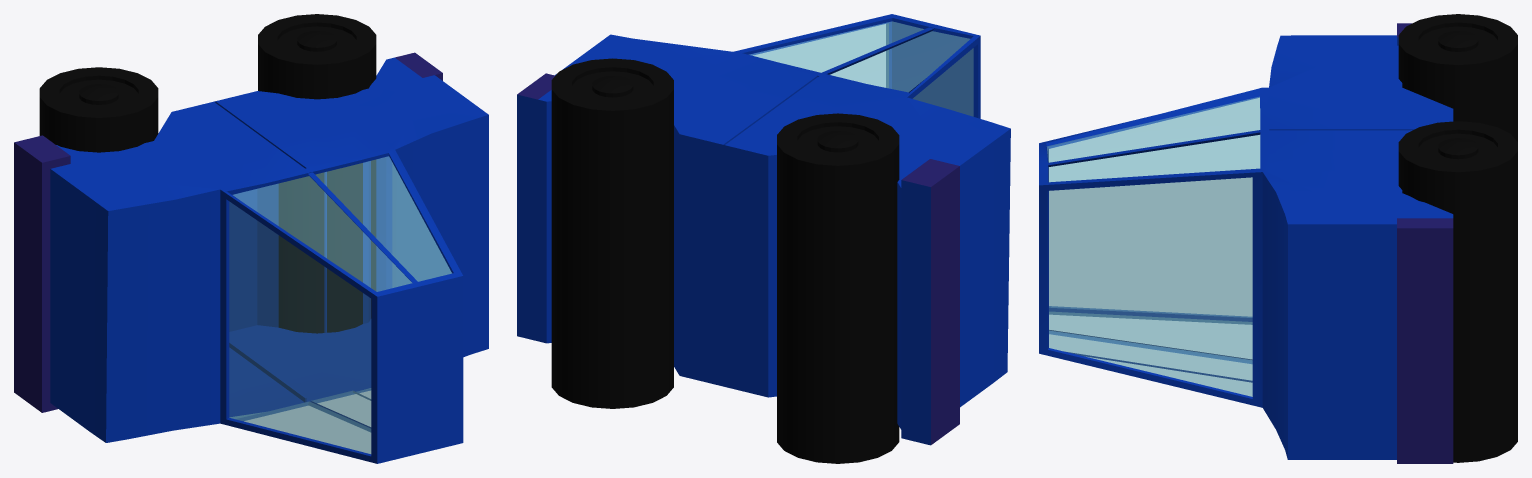
The model's file is carr.FBX.
3 renders of one model, left to right at view 1: azimuth 30°, elevation 25°; view 2: azimuth 150°, elevation 25°; view 3: azimuth 270°, elevation 25°, orthographic. The views are drawn at different scales.
Parts seen in each view (by area): view 1: Box001, Cylinder003, Cylinder004; view 2: Box001, Cylinder003, Cylinder004; view 3: Box001, Cylinder003, Cylinder004.
Boxes of the visible parts, box(x1,y1,x2,y2) form: Box001: box(14, 52, 488, 463); Cylinder003: box(258, 14, 376, 333); Cylinder004: box(39, 67, 158, 152); Box001: box(517, 14, 1010, 445); Cylinder003: box(551, 58, 673, 408); Cylinder004: box(777, 113, 899, 463); Box001: box(1039, 23, 1453, 463); Cylinder003: box(1398, 121, 1517, 462); Cylinder004: box(1398, 14, 1517, 141).
Bounding box in the file's own units: 4.31 × 3.06 × 4.43.
